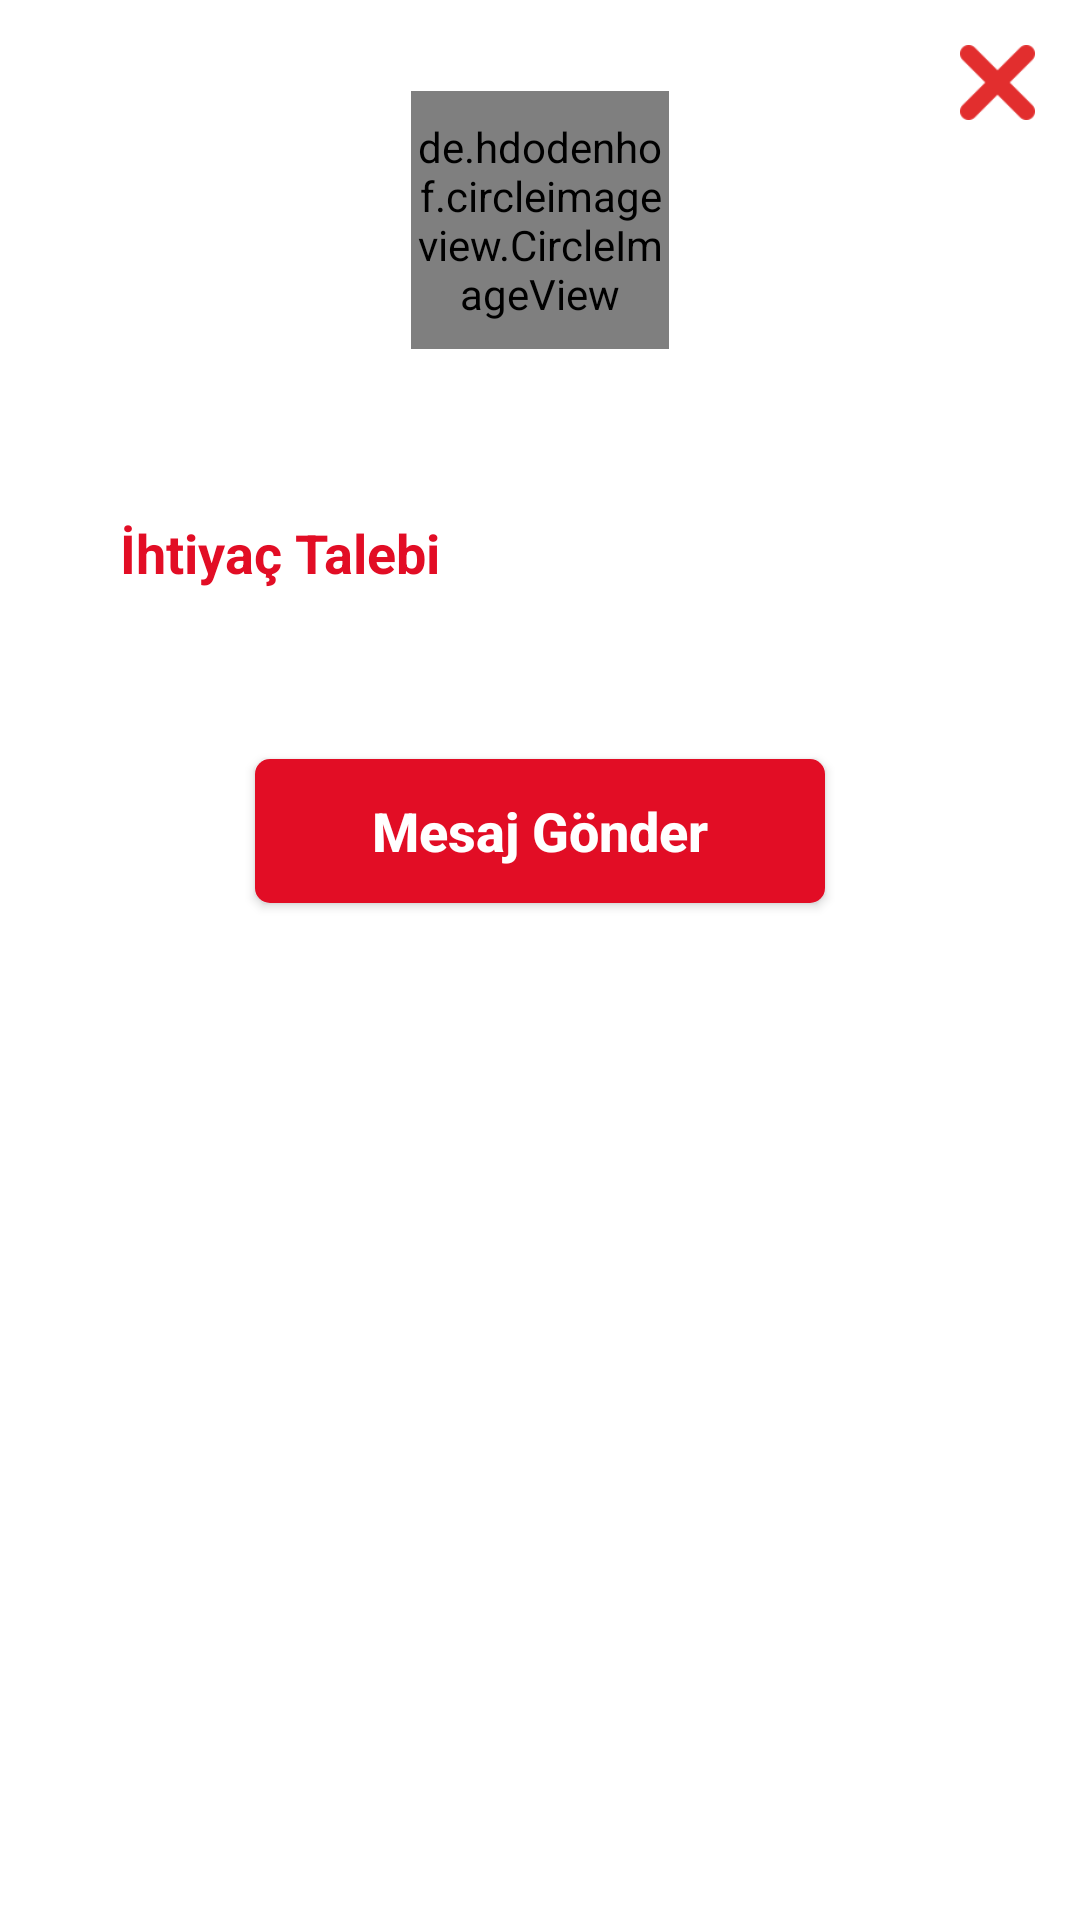

Locate icon controls on the screen. Image size 1080w x 1920h, boxes as {"x1": x1, "y1": y1, "x2": x2, "y2": y2}.
close: {"x1": 960, "y1": 45, "x2": 1035, "y2": 120}
